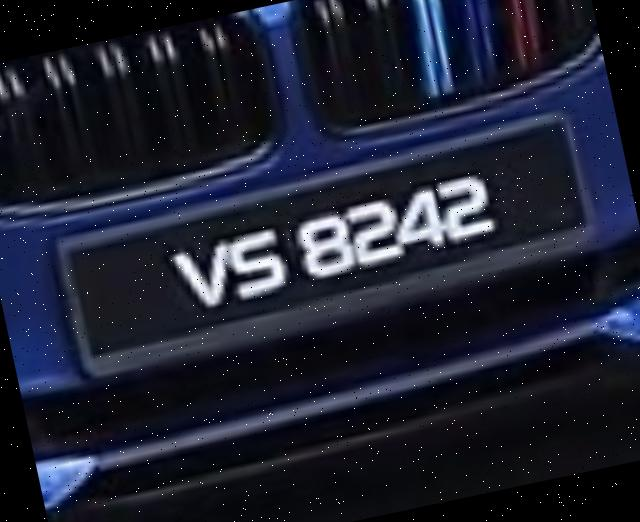License_Plate: (20, 89, 631, 423)
